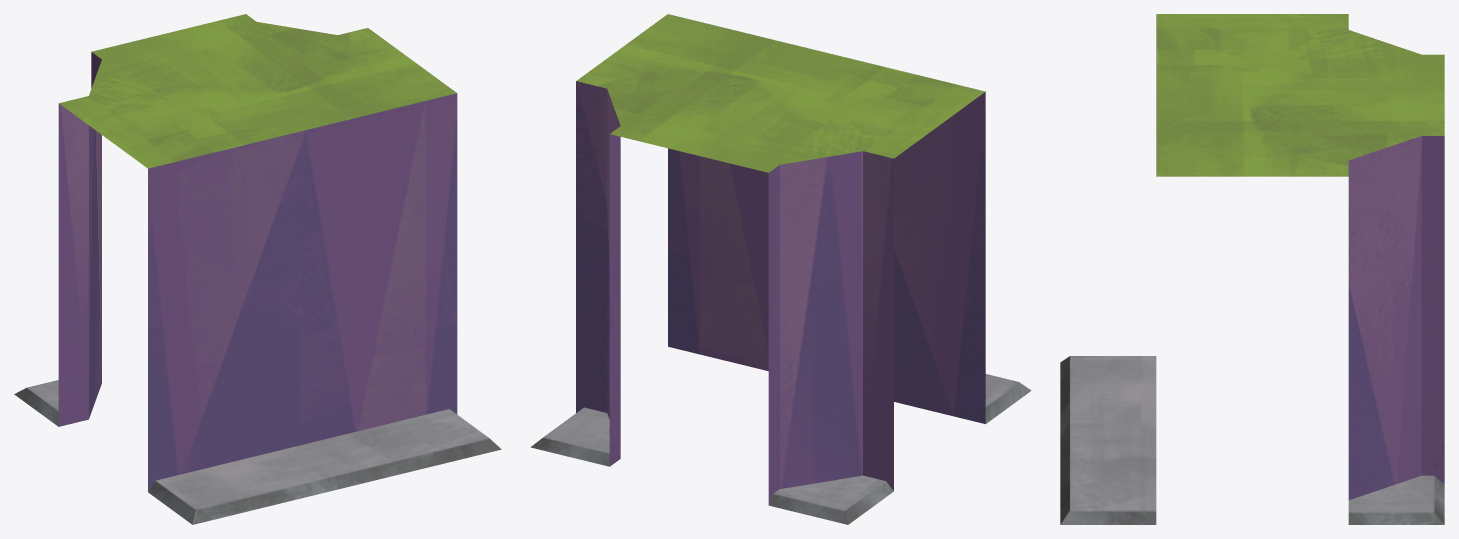
File: wall_t_shape.fbx
3 renders of one model, left to right at view 1: azimuth 30°, elevation 25°; view 2: azimuth 150°, elevation 25°; view 3: azimuth 270°, elevation 25°, orthographic. The views are drawn at different scales.
Visible parts, largest first — view 1: wall_t_shape; view 2: wall_t_shape; view 3: wall_t_shape.
Boxes of the visible parts, <box> form: wall_t_shape: <box>14,14,501,524</box>; wall_t_shape: <box>530,14,1031,524</box>; wall_t_shape: <box>1060,14,1444,524</box>.
Bounding box in the file's own units: 0.02 × 0.02 × 0.02.
